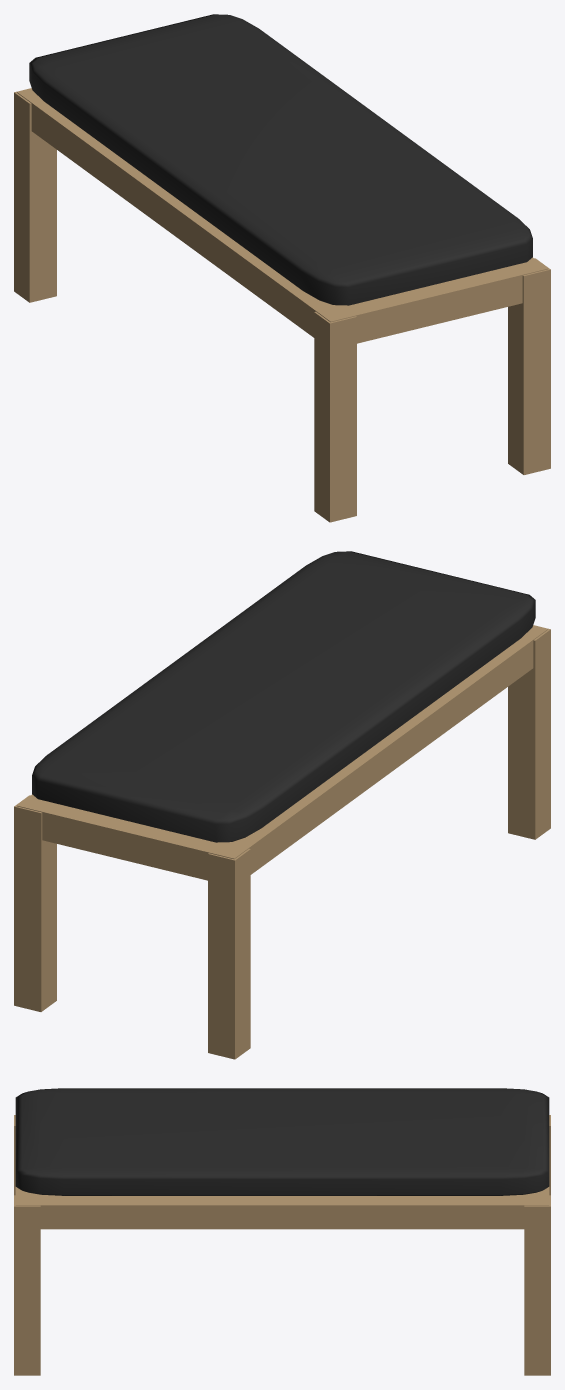
File: InfirmaryTemporaryBed.fbx
3 renders of one model, top to bottom at view 1: azimuth 30°, elevation 25°; view 2: azimuth 150°, elevation 25°; view 3: azimuth 270°, elevation 25°, orthographic. The views are drawn at different scales.
Visible parts, largest first — view 1: 003.bed.foot; view 2: 003.bed.foot; view 3: 003.bed.foot.
Part boxes in pixels (<box>): 003.bed.foot: <box>14,14,550,522</box>; 003.bed.foot: <box>14,551,550,1059</box>; 003.bed.foot: <box>14,1088,550,1375</box>.
Size of the model in its own units: 81.37 by 82.5 by 201.
